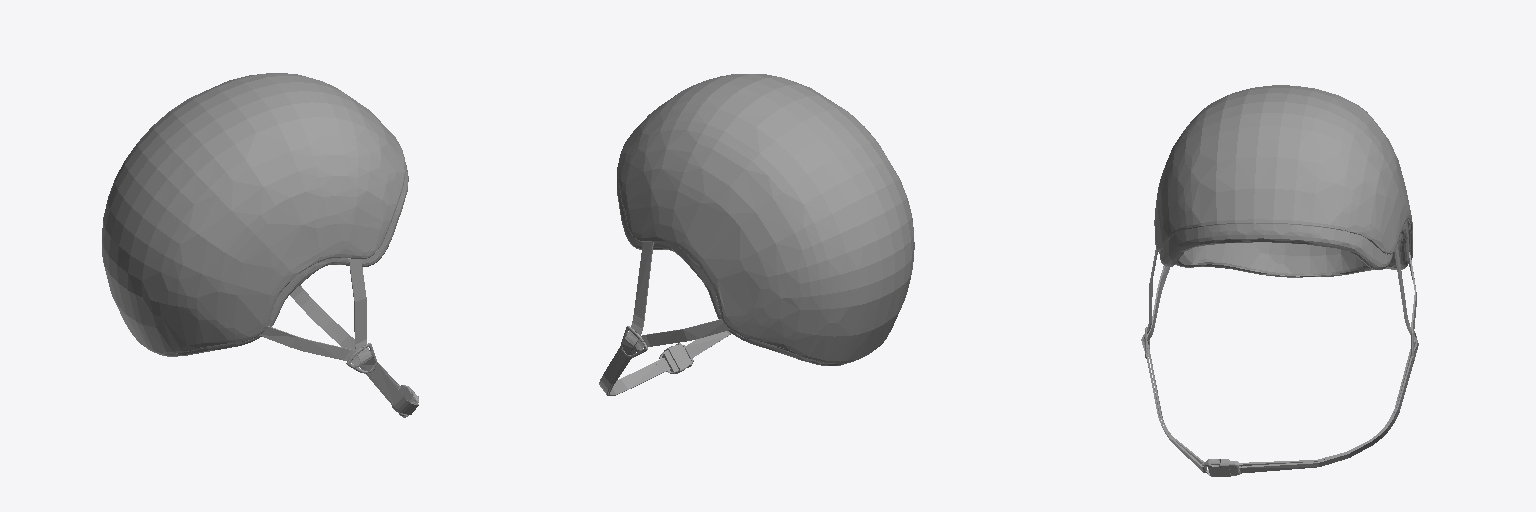
File: helmet2.obj
3 renders of one model, left to right at view 1: azimuth 30°, elevation 25°; view 2: azimuth 150°, elevation 25°; view 3: azimuth 270°, elevation 25°, orthographic.
Parts seen in each view (by area): view 1: 10528_Skating_Helmet_v1_SG; view 2: 10528_Skating_Helmet_v1_SG; view 3: 10528_Skating_Helmet_v1_SG.
Boxes of the visible parts, x1=… form: 10528_Skating_Helmet_v1_SG: x1=102, y1=73, x2=418, y2=417; 10528_Skating_Helmet_v1_SG: x1=599, y1=74, x2=914, y2=395; 10528_Skating_Helmet_v1_SG: x1=1141, y1=85, x2=1418, y2=476.
Bounding box in the file's own units: 0.0325 × 0.0384 × 0.0293.